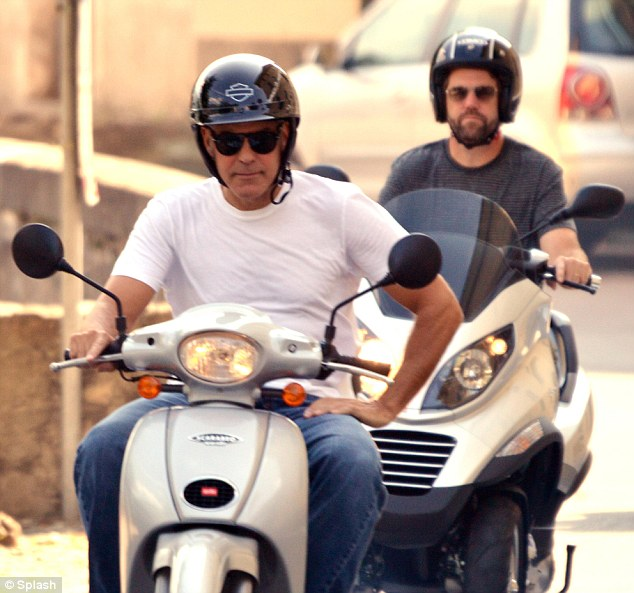helmet: (182, 60, 296, 132), (428, 27, 522, 100)
